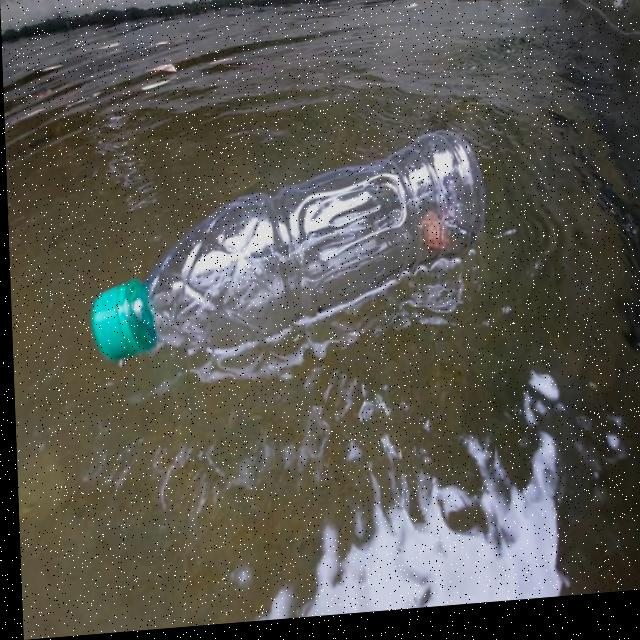waterbottle: (70, 127, 487, 411)
